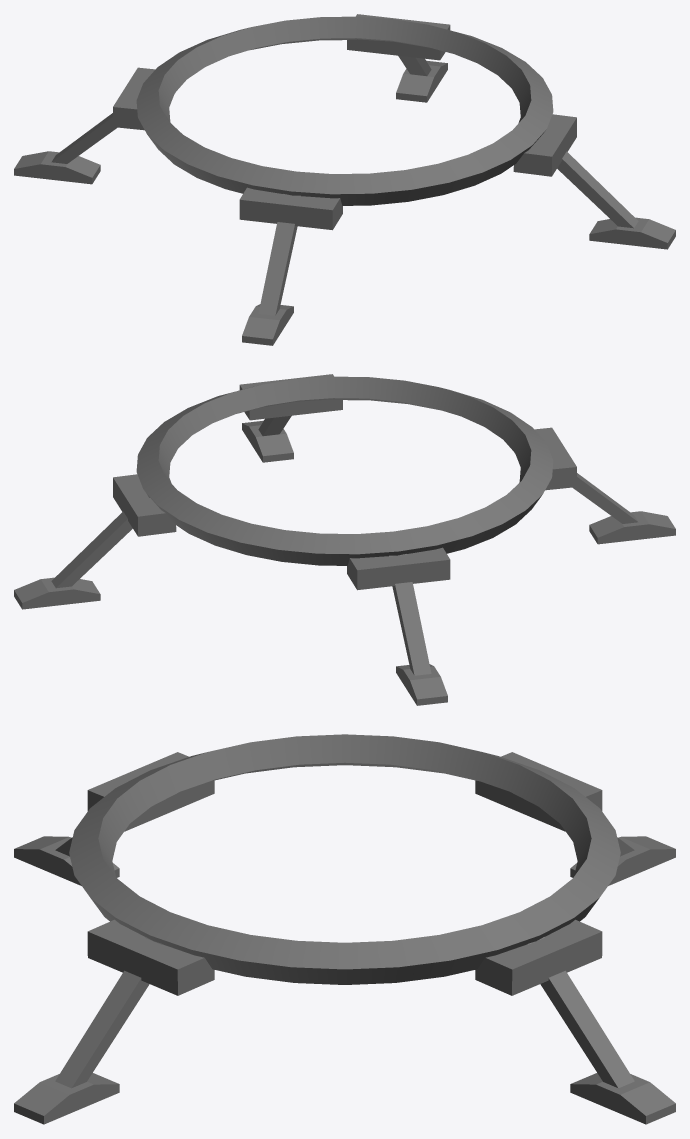
The model's file is House_Single_Support.glb.
3 renders of one model, top to bottom at view 1: azimuth 30°, elevation 25°; view 2: azimuth 150°, elevation 25°; view 3: azimuth 270°, elevation 25°, orthographic. The views are drawn at different scales.
Visible parts, largest first — view 1: House_Single_Support; view 2: House_Single_Support; view 3: House_Single_Support.
Part boxes in pixels (<box>): House_Single_Support: <box>14,14,675,345</box>; House_Single_Support: <box>14,374,675,705</box>; House_Single_Support: <box>14,734,675,1124</box>.
Size of the model in its own units: 3.58 by 0.8721 by 3.58.
1 material, 1 textured.
